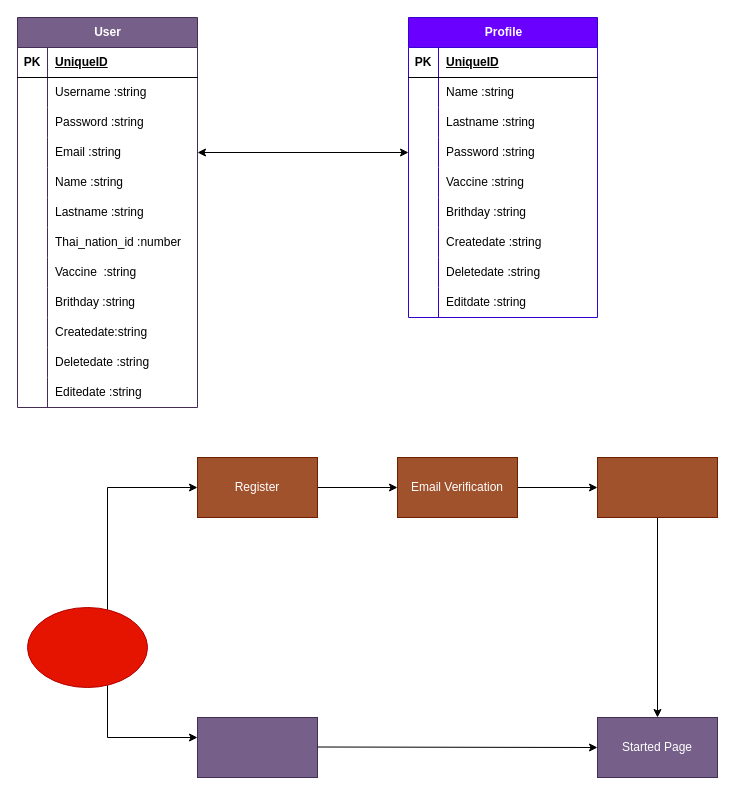
This 735x795 diagram has some shape labels left out. The centre of each missing label's shape, as x and y in pixels:
"Home" goes at (87,647).
"Login" goes at (257,747).
"Verification Page" goes at (657,487).
